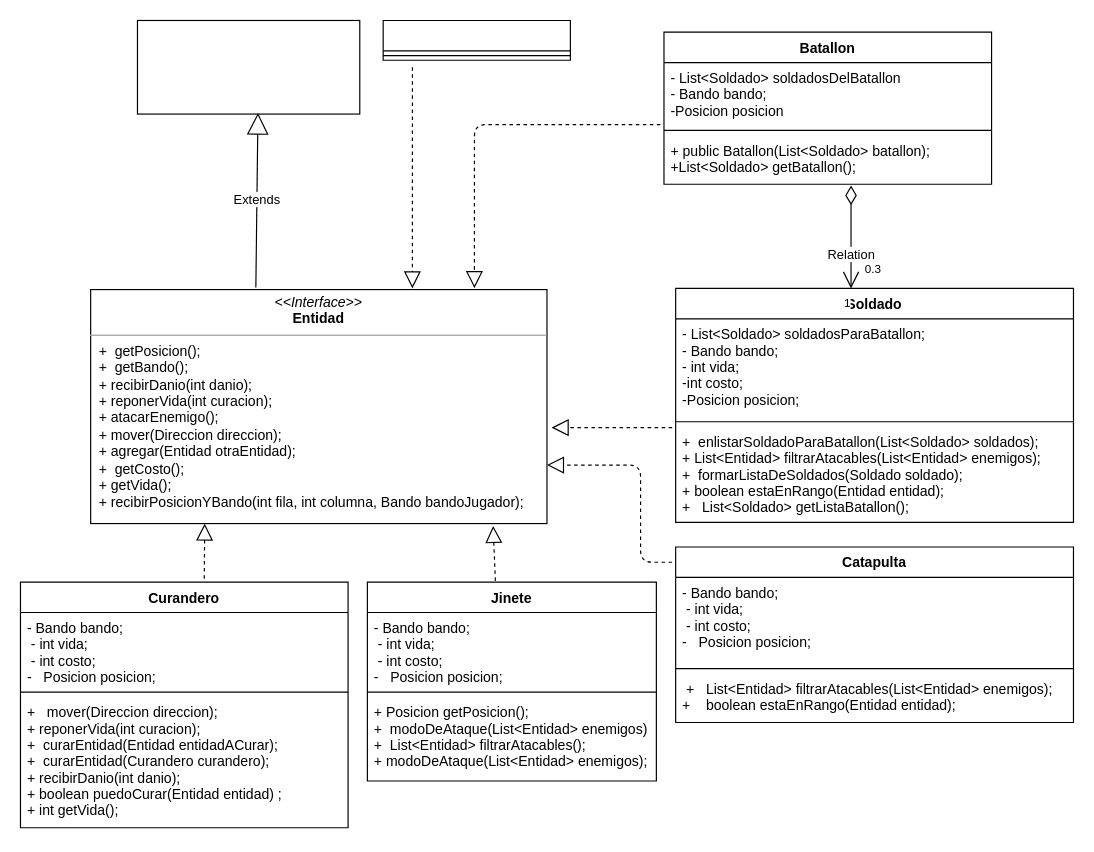
This 1094x852 diagram has some shape labels left out. The shapes that lost their labels are listed below. From the top down, each one's centre as x and y in pixels, then its label:
At pixel 476 39: "ObjetoNull".
At pixel 248 66: "<<Interface>> Ataque + atacarEnemigo(Entidad);".
